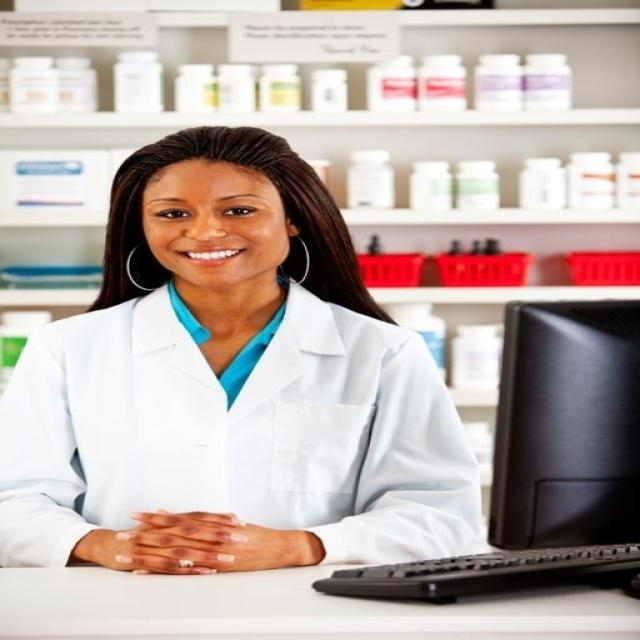E-waste: (394, 282, 632, 608)
Medical Waste: (0, 44, 640, 124)
